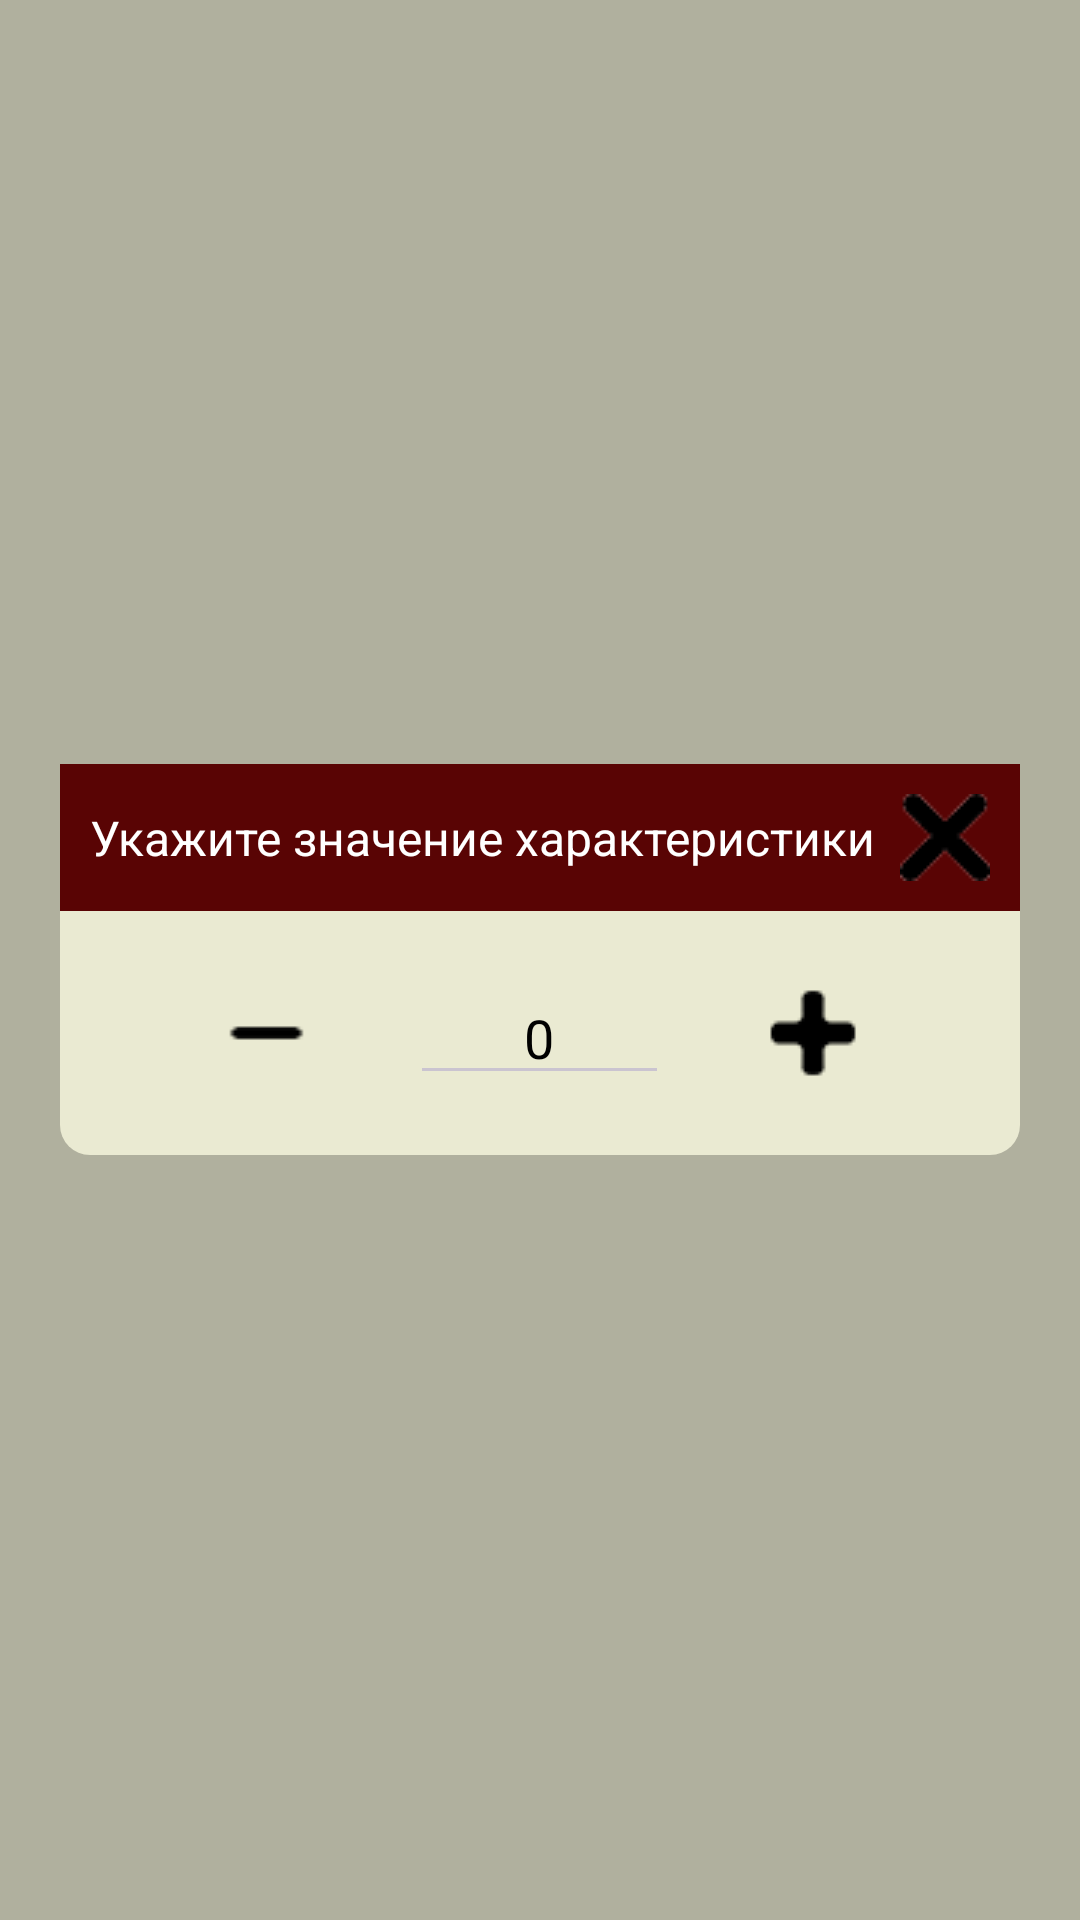

Where to tap for icons on this 1080px x 1920px app screen, as (x,y):
close: (945,837)
minus: (266,1033)
plus: (813,1033)
